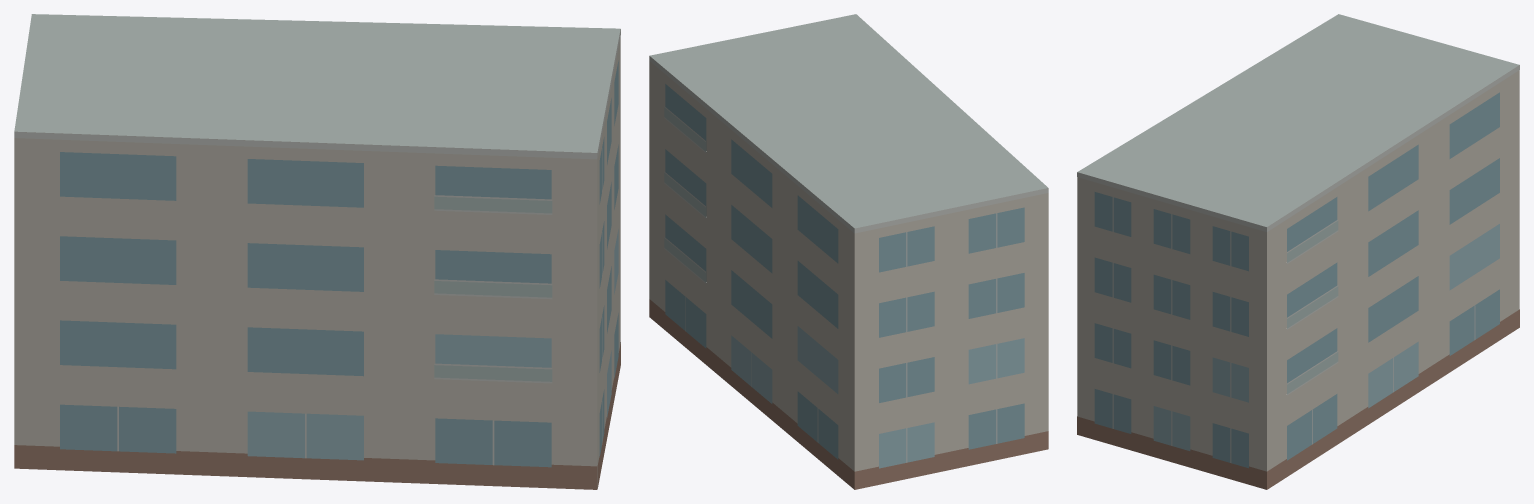
The model's file is survey-upis-32661938.glb.
3 renders of one model, left to right at view 1: azimuth 30°, elevation 25°; view 2: azimuth 150°, elevation 25°; view 3: azimuth 270°, elevation 25°, orthographic. The views are drawn at different scales.
Parts seen in each view (by area): view 1: survey-upis-32661938.tmp; view 2: survey-upis-32661938.tmp; view 3: survey-upis-32661938.tmp.
Part boxes in pixels (x1=…): survey-upis-32661938.tmp: x1=14, y1=14, x2=620, y2=489; survey-upis-32661938.tmp: x1=649, y1=14, x2=1048, y2=489; survey-upis-32661938.tmp: x1=1077, y1=14, x2=1519, y2=489.
Size of the model in its own units: 22.3 by 12.8 by 19.56.
